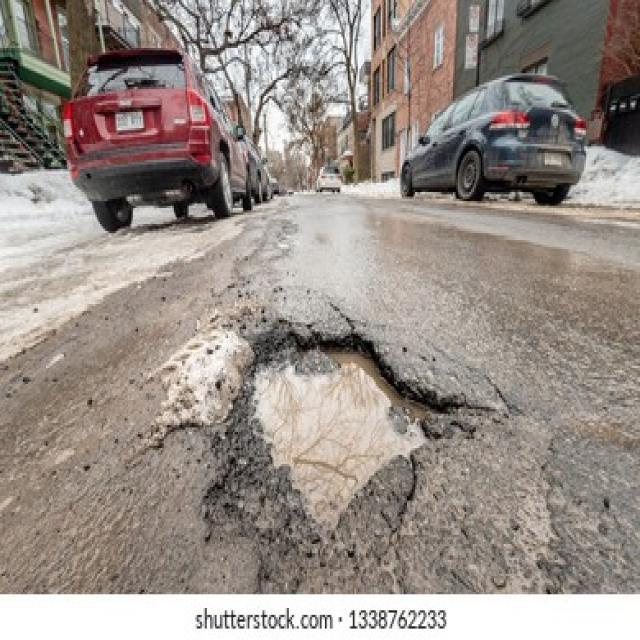Pothole: (240, 324, 453, 546)
